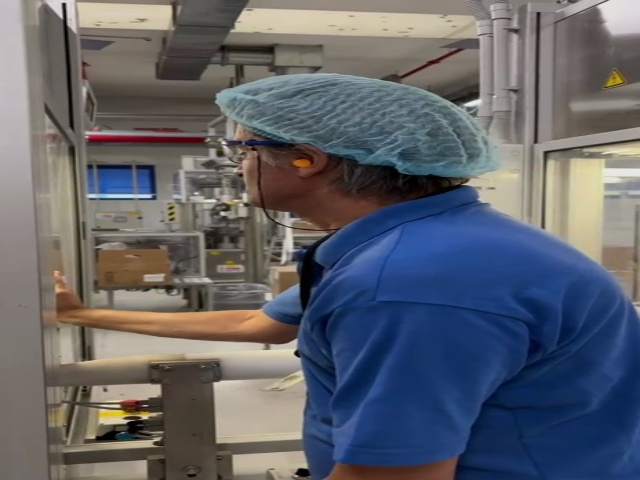Earplug: (285, 144, 330, 176)
Hairnet: (222, 73, 498, 178)
No_Helmet: (224, 79, 493, 175)
No_Vest: (304, 222, 640, 480)
Person: (212, 71, 640, 480)
Safety_Goggles: (220, 137, 293, 164)
